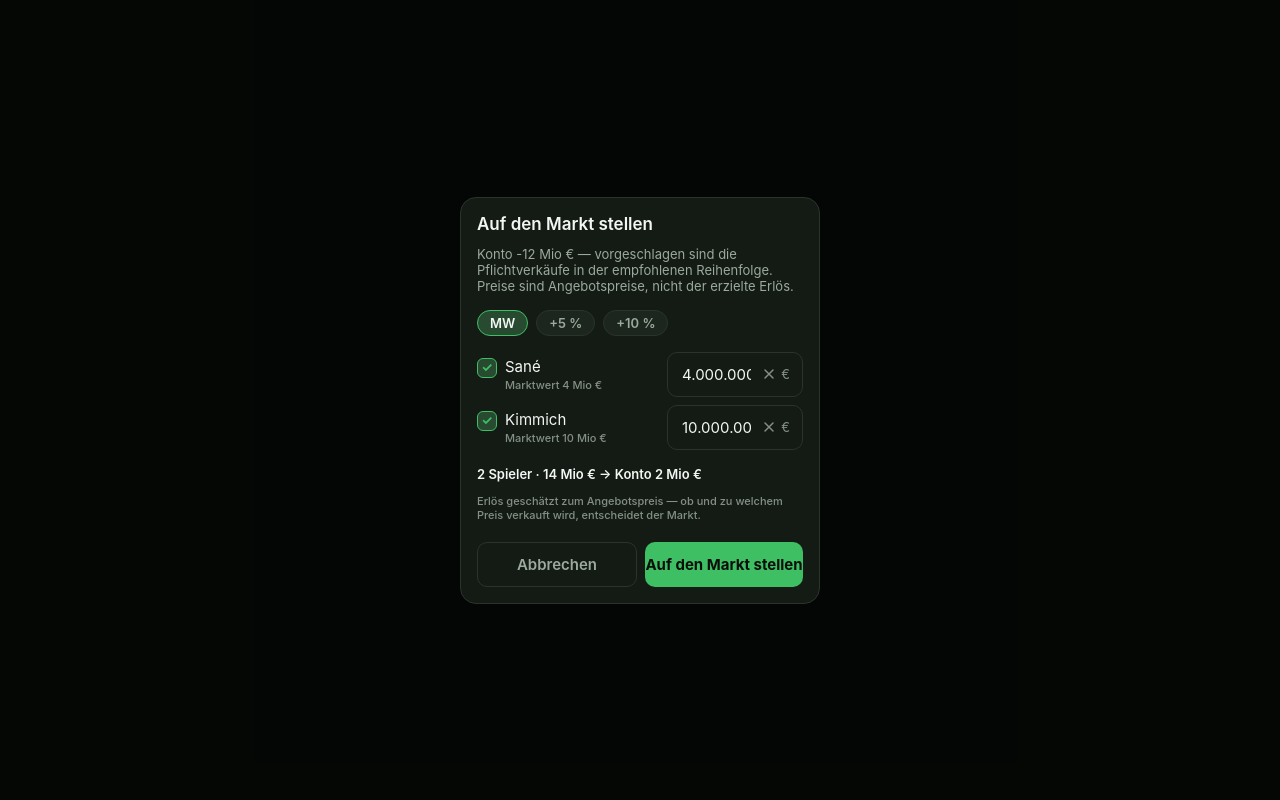
it: MarketListingModal › nennt den Restfehlbetrag, wenn die Auswahl nicht reicht
Click the checkbox labelled "✓ Kimmich Marktwert 10 Mio €" at (542, 427), box [477,410,607,444]
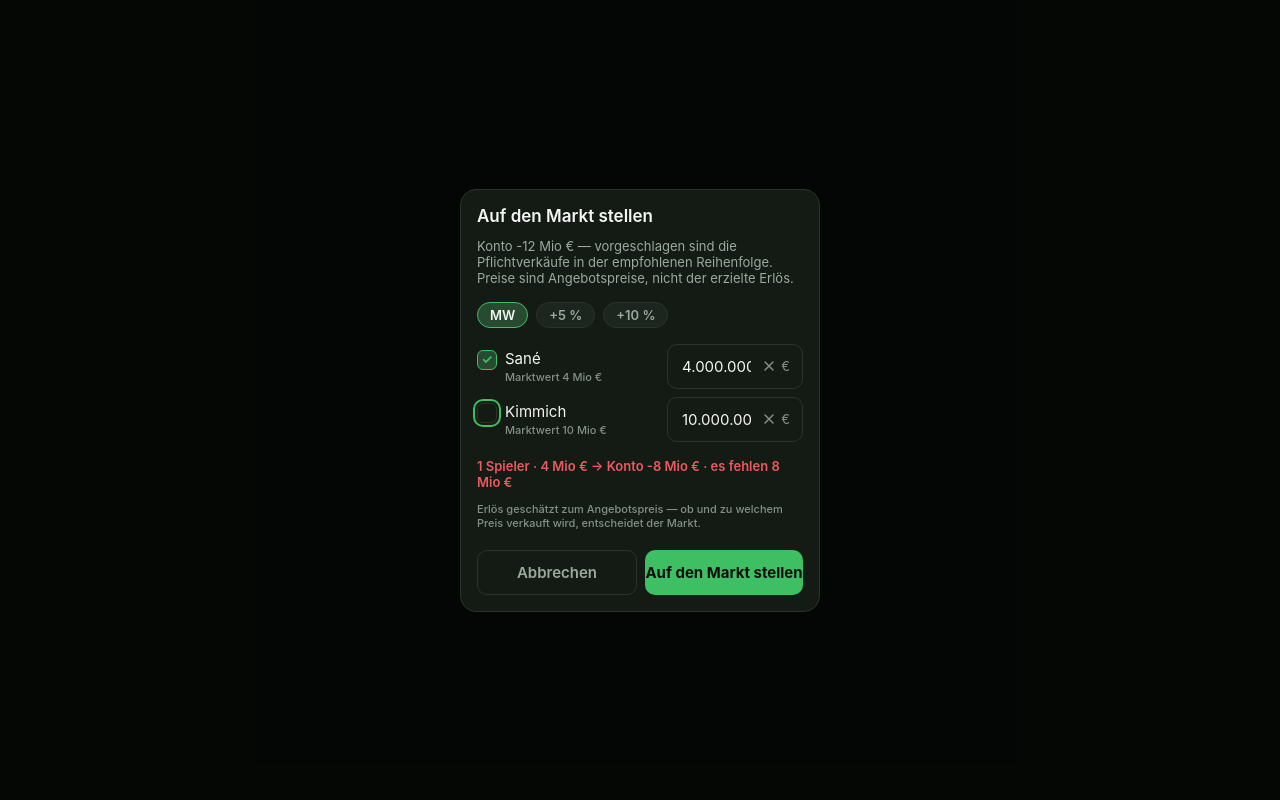
Result: the text "1 Spieler · 4 Mio € → Konto -8 Mio € · es fehlen 8 Mio €" is shown at [477,458,803,490]
